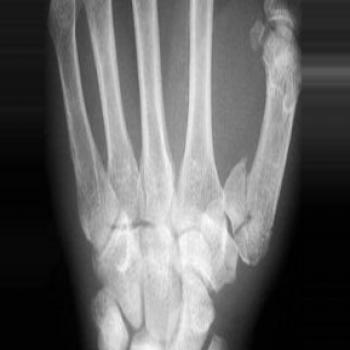Fracture: (222, 159, 252, 234)
